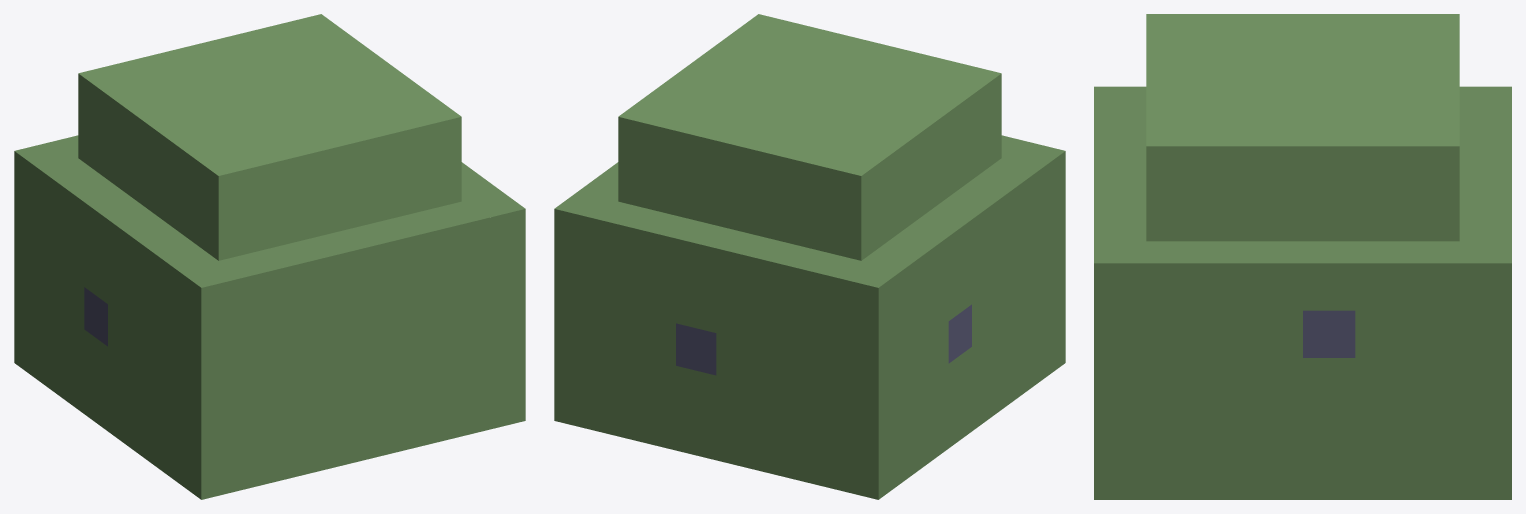
File: endrino_04.glb
3 views of the same model, side by side, from view 1: azimuth 30°, elevation 25°; view 2: azimuth 150°, elevation 25°; view 3: azimuth 270°, elevation 25° (orthographic). The views are drawn at different scales.
Visible parts, largest first — view 1: endrino_04; view 2: endrino_04; view 3: endrino_04.
Boxes of the visible parts, box(x1,y1,x2,y2) form: endrino_04: box(14, 14, 525, 499); endrino_04: box(554, 14, 1065, 499); endrino_04: box(1094, 14, 1511, 499).
Bounding box in the file's own units: 0.8 × 0.7 × 0.8.
